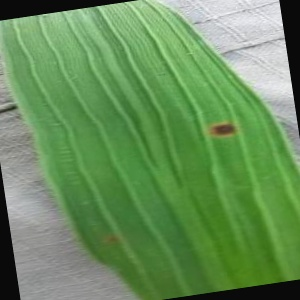Bacterial_Leaf_Blight: (199, 113, 243, 144), (101, 231, 123, 248)
